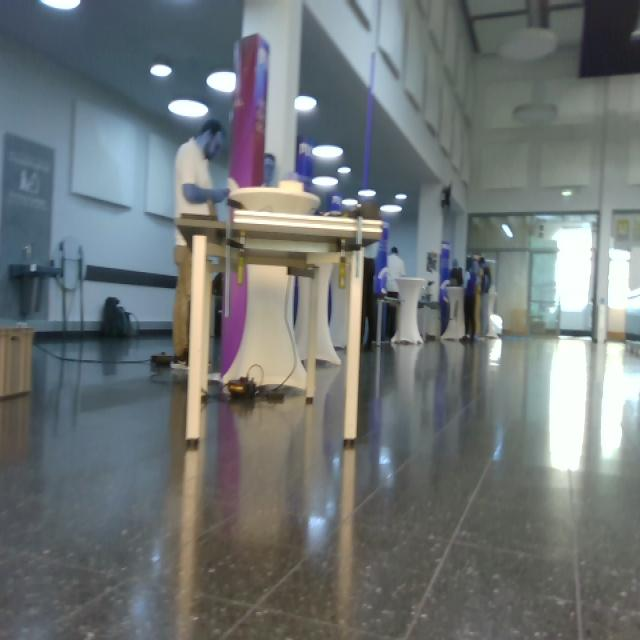light bulb: (311, 144, 343, 188), (168, 99, 209, 119), (207, 70, 237, 93), (312, 145, 344, 160), (40, 1, 81, 12), (294, 96, 317, 112), (312, 176, 338, 188), (150, 64, 172, 78), (380, 204, 403, 214), (501, 223, 514, 239), (358, 189, 377, 198), (342, 198, 359, 208), (338, 167, 352, 175), (395, 193, 408, 201)
person: (171, 119, 234, 371)
table: (176, 190, 389, 452)
tiled floor: (2, 329, 639, 638)
